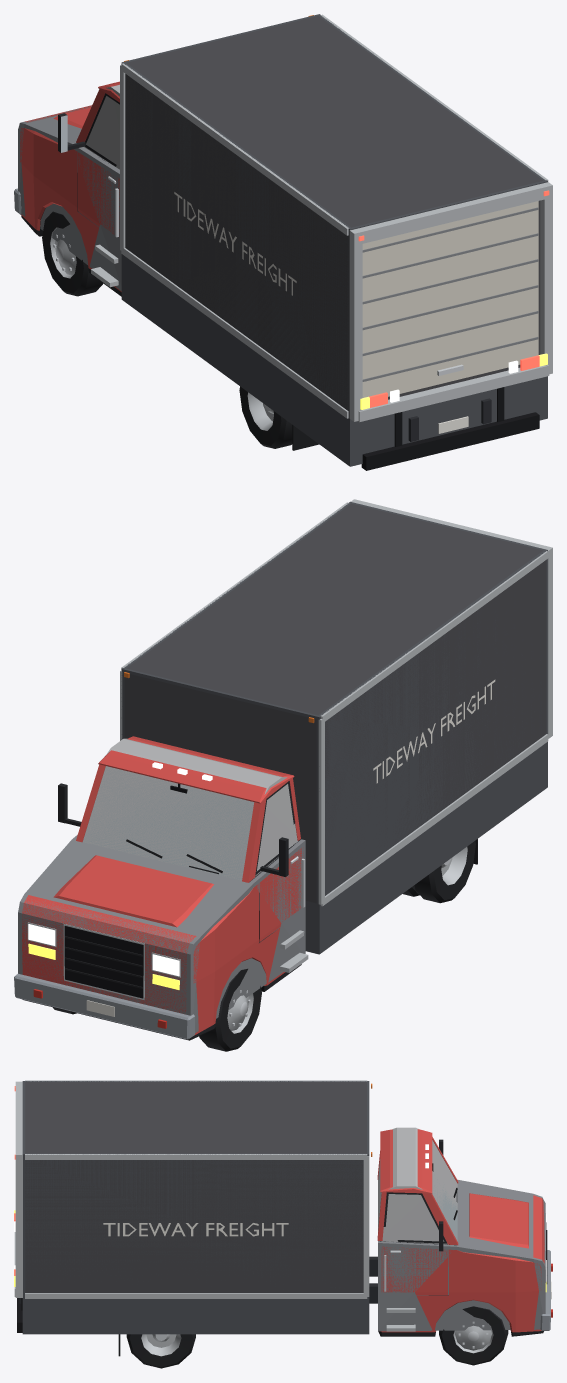
File: car_truck.glb
3 renders of one model, top to bottom at view 1: azimuth 30°, elevation 25°; view 2: azimuth 150°, elevation 25°; view 3: azimuth 270°, elevation 25°, orthographic. The views are drawn at different scales.
Visible parts, largest first — view 1: car_truck__body, car_truck__col_box, car_truck__col_body, car_truck__door_fl, car_truck__wheel_fl, car_truck__wheel_rl, car_truck__col_cabin; view 2: car_truck__body, car_truck__col_box, car_truck__col_body, car_truck__col_cabin, car_truck__door_fl, car_truck__wheel_fl, car_truck__wheel_rl; view 3: car_truck__body, car_truck__col_box, car_truck__col_body, car_truck__col_cabin, car_truck__door_fr, car_truck__wheel_fr, car_truck__wheel_rr.
Part boxes in pixels (bbox=[...]): car_truck__body: bbox=[14, 14, 552, 470]; car_truck__col_box: bbox=[121, 14, 547, 466]; car_truck__col_body: bbox=[18, 106, 121, 290]; car_truck__door_fl: bbox=[58, 93, 119, 236]; car_truck__wheel_fl: bbox=[42, 211, 103, 296]; car_truck__wheel_rl: bbox=[239, 386, 292, 448]; car_truck__col_cabin: bbox=[84, 84, 119, 169]; car_truck__body: bbox=[14, 499, 552, 1040]; car_truck__col_box: bbox=[121, 501, 547, 954]; car_truck__col_body: bbox=[18, 835, 305, 1033]; car_truck__col_cabin: bbox=[82, 738, 297, 880]; car_truck__door_fl: bbox=[255, 781, 301, 942]; car_truck__wheel_fl: bbox=[199, 968, 261, 1051]; car_truck__wheel_rl: bbox=[403, 841, 475, 903]; car_truck__body: bbox=[14, 1080, 552, 1356]; car_truck__col_box: bbox=[22, 1081, 369, 1334]; car_truck__col_body: bbox=[378, 1179, 545, 1331]; car_truck__col_cabin: bbox=[378, 1127, 457, 1244]; car_truck__door_fr: bbox=[383, 1192, 447, 1294]; car_truck__wheel_fr: bbox=[439, 1306, 508, 1365]; car_truck__wheel_rr: bbox=[126, 1334, 195, 1368].
Size of what is drawn, in the model's own units: 2.76 by 3.3 by 7.46.
Materials: 11 (2 with a texture image).
